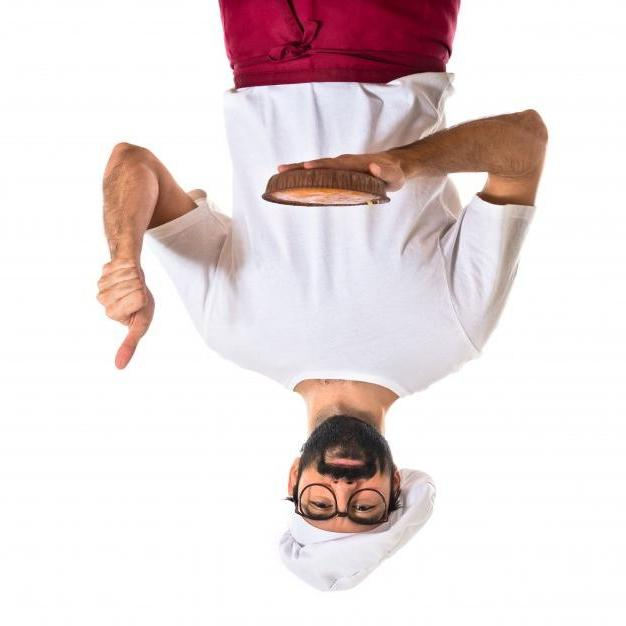thumbsdown: (96, 259, 150, 370)
